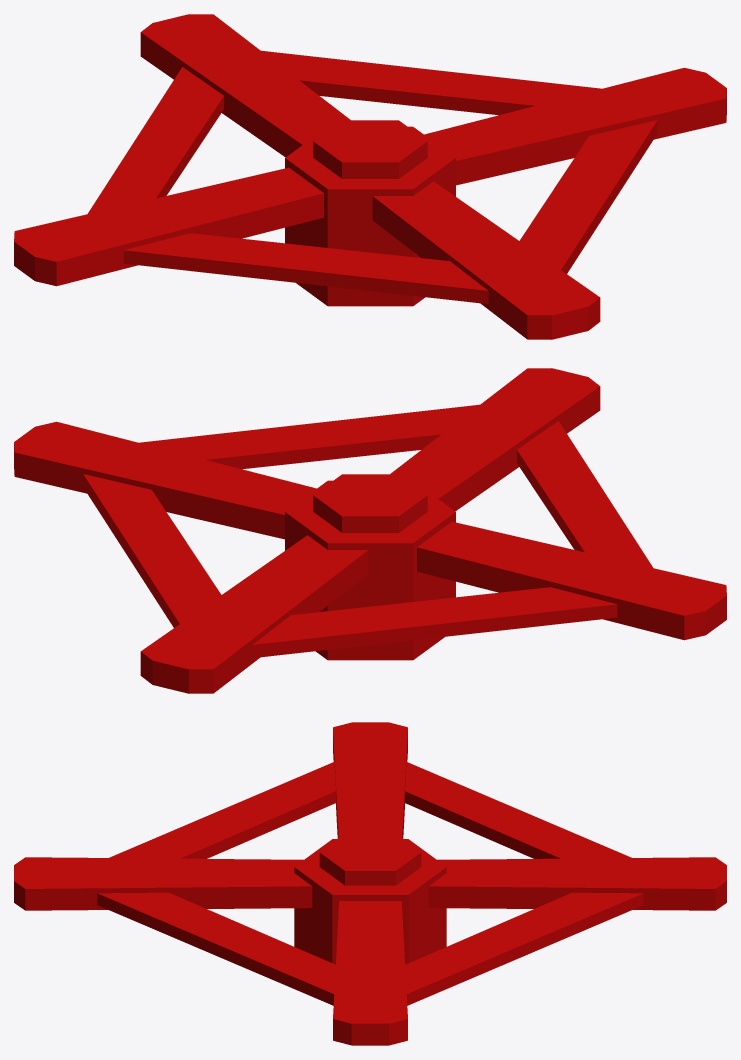
Rendered from Prop_Industrial_Pipe_Valve_Handle_03.FBX.
3 renders of one model, top to bottom at view 1: azimuth 30°, elevation 25°; view 2: azimuth 150°, elevation 25°; view 3: azimuth 270°, elevation 25°, orthographic. The views are drawn at different scales.
Parts seen in each view (by area): view 1: Prop_Industrial_Pipe_Valve_Handle_03; view 2: Prop_Industrial_Pipe_Valve_Handle_03; view 3: Prop_Industrial_Pipe_Valve_Handle_03.
Boxes of the visible parts, x1=… form: Prop_Industrial_Pipe_Valve_Handle_03: x1=14, y1=14, x2=726, y2=339; Prop_Industrial_Pipe_Valve_Handle_03: x1=14, y1=368, x2=726, y2=693; Prop_Industrial_Pipe_Valve_Handle_03: x1=14, y1=722, x2=726, y2=1045.
Bounding box in the file's own units: 786 × 145 × 786.
